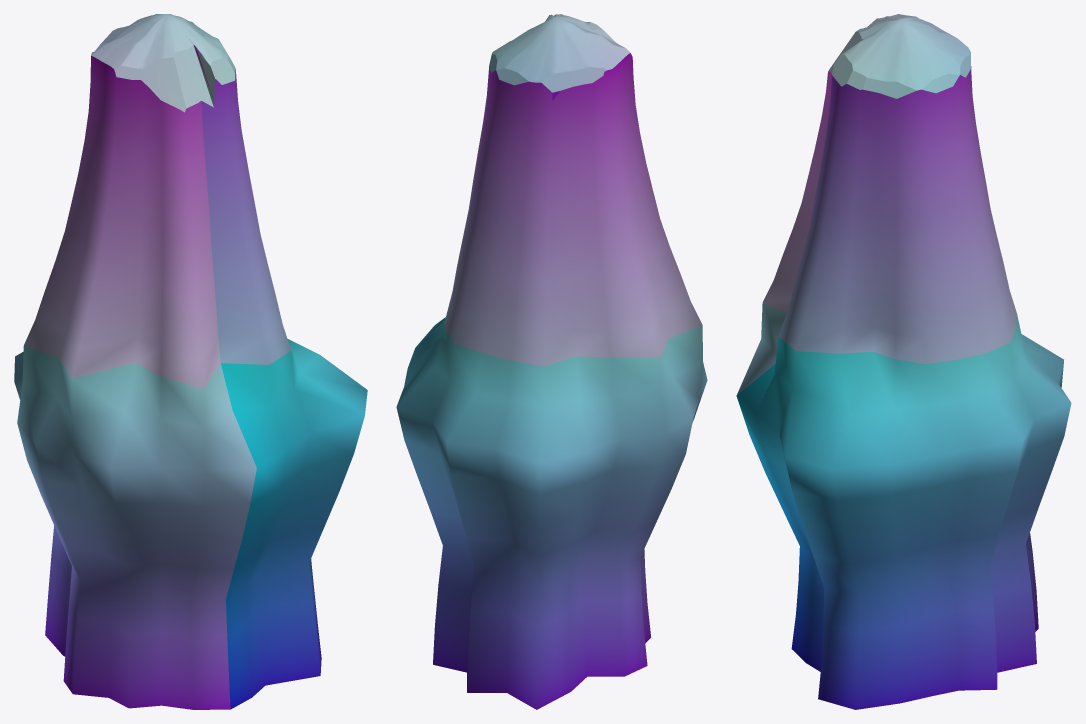
3 renders of one model, left to right at view 1: azimuth 30°, elevation 25°; view 2: azimuth 150°, elevation 25°; view 3: azimuth 270°, elevation 25°, orthographic. The views are drawn at different scales.
Parts seen in each view (by area): view 1: SM_FH_Ash_Canopy_02_LOD0; view 2: SM_FH_Ash_Canopy_02_LOD0; view 3: SM_FH_Ash_Canopy_02_LOD0.
Boxes of the visible parts, <box> form: SM_FH_Ash_Canopy_02_LOD0: <box>14,14,367,709</box>; SM_FH_Ash_Canopy_02_LOD0: <box>396,14,707,709</box>; SM_FH_Ash_Canopy_02_LOD0: <box>736,14,1071,709</box>.
Size of the model in its own units: 1.09 by 2.29 by 1.1.
